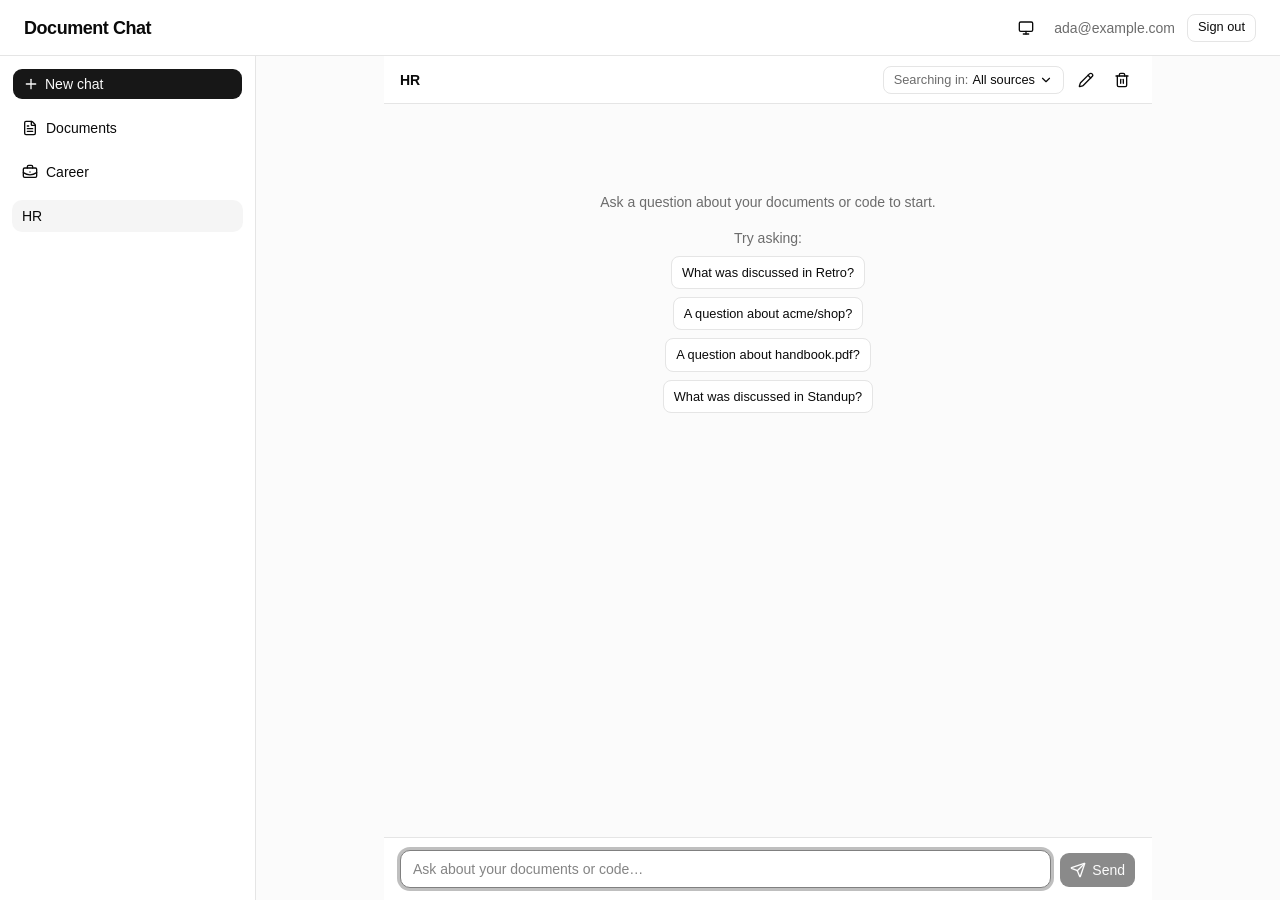
Test: choosing the sources of a chat › the groups › keeps documents, code and meetings apart, each under its own heading
Click the button "Searching in: All sources" at (973, 80), box 883,66 -> 1064,94
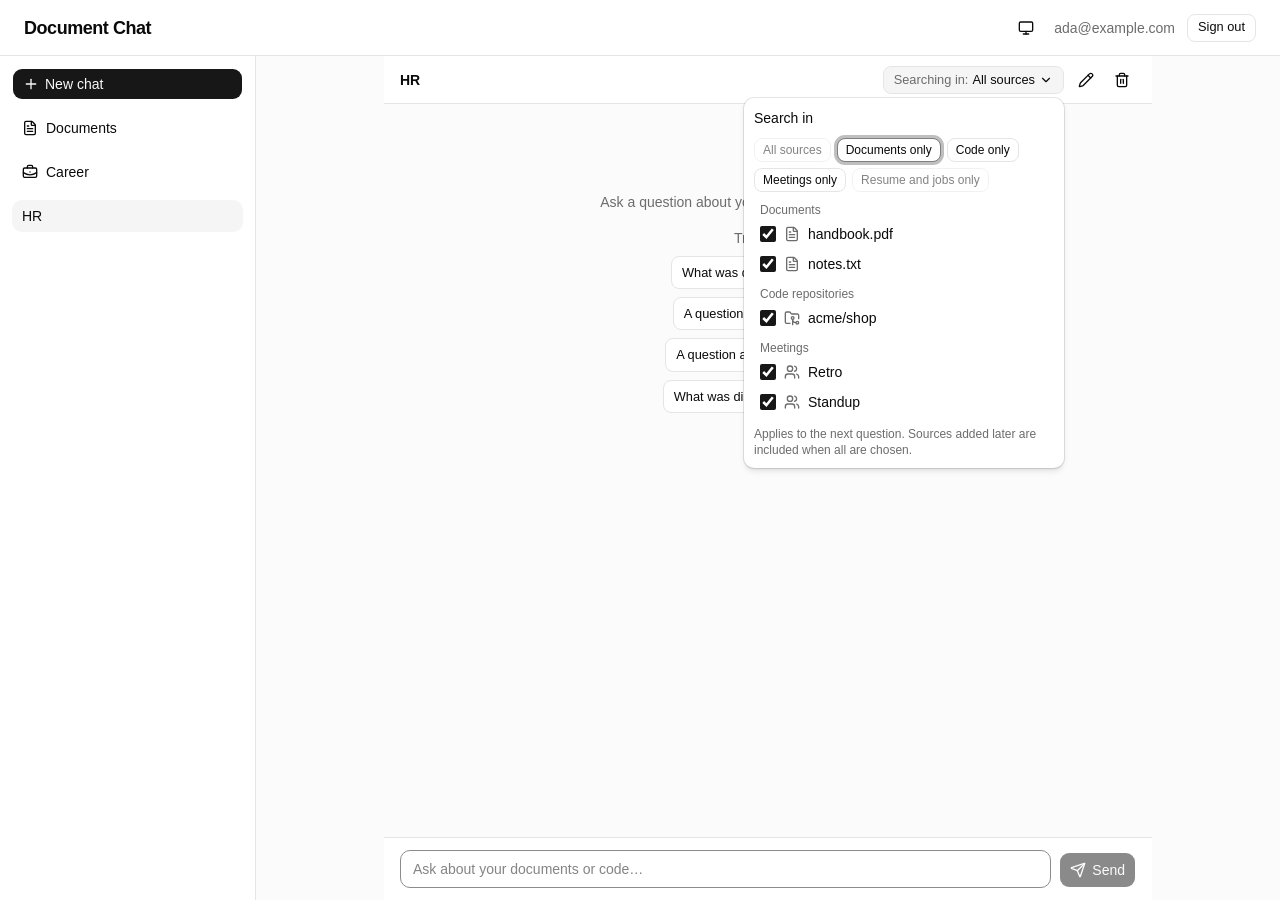
Expected: the text "Documents" is shown, 760,203 -> 821,217
Expected: the text "Code repositories" is shown, 760,287 -> 854,301
Expected: the text "Meetings" is shown, 760,341 -> 809,355
